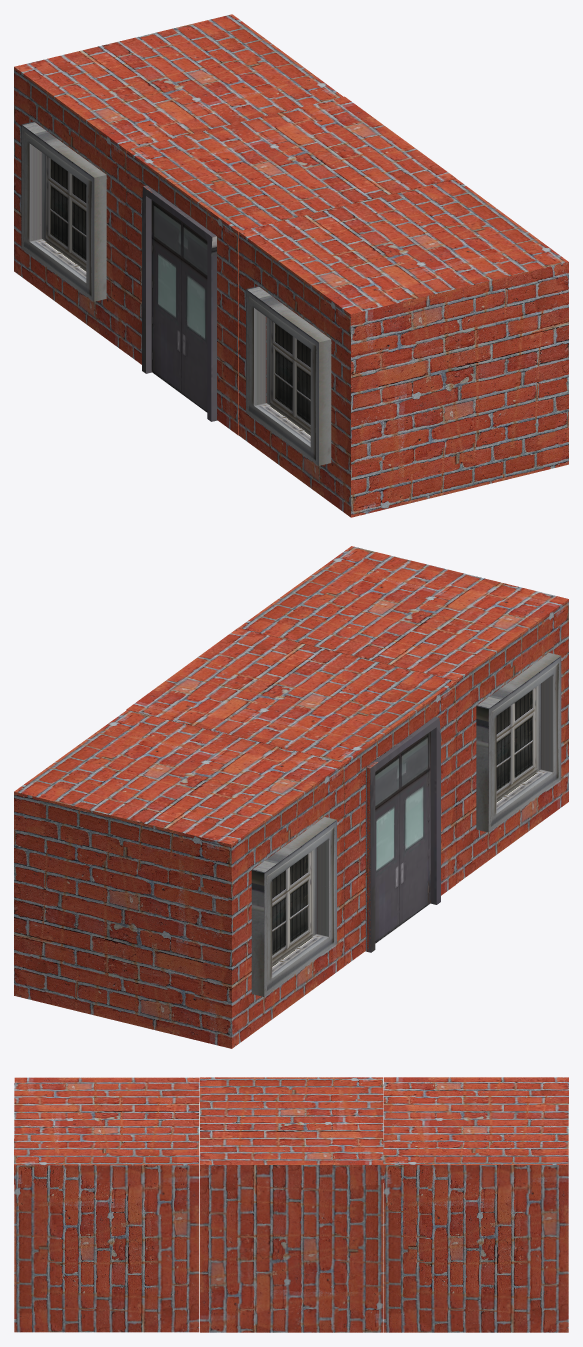
Rendered from Down(3x1).fbx.
3 views of the same model, one above another, from view 1: azimuth 30°, elevation 25°; view 2: azimuth 150°, elevation 25°; view 3: azimuth 270°, elevation 25° (orthographic). The views are drawn at different scales.
Parts seen in each view (by area): view 1: PreSet; view 2: PreSet; view 3: PreSet.
Part boxes in pixels (x1,y1,x2,y2): PreSet: (14, 14, 568, 517); PreSet: (14, 546, 568, 1048); PreSet: (14, 1077, 568, 1332).
Size of the model in its own units: 609 by 242 by 204.
